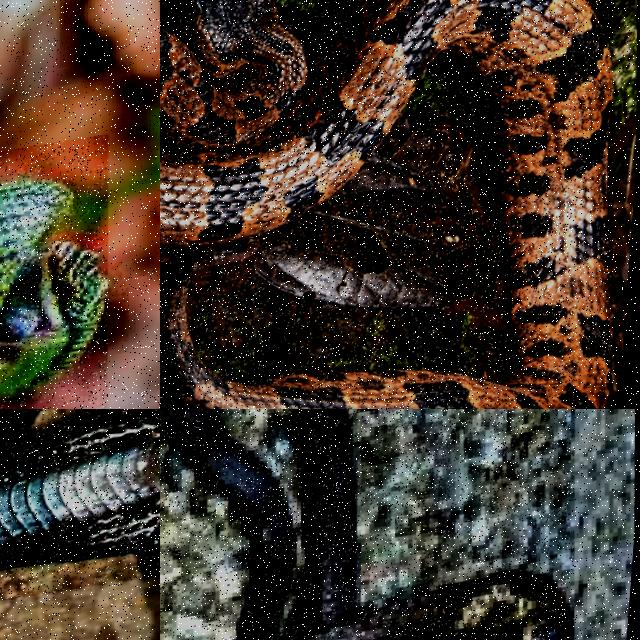Chrysopelea ornata: (0, 243, 107, 396)
Naja kaouthia: (168, 409, 574, 639), (0, 409, 159, 568)
Ovophis monticola: (160, 0, 611, 408)
snake: (160, 0, 611, 408), (168, 409, 574, 639), (0, 409, 159, 568), (0, 243, 107, 396)
